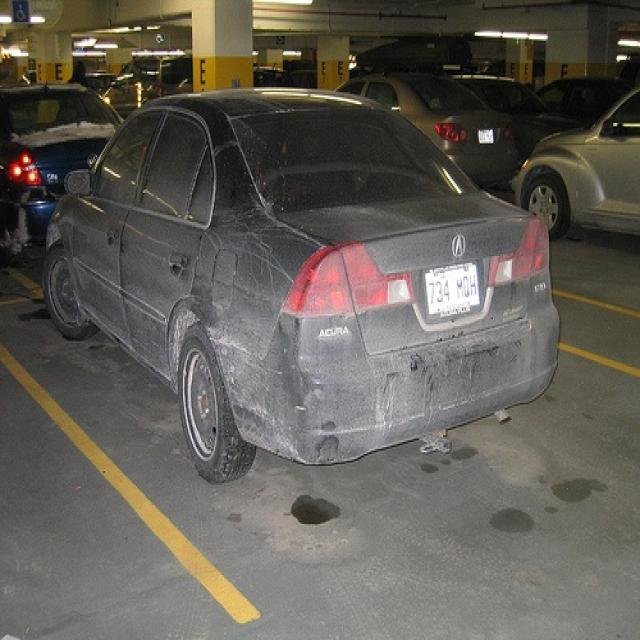car: (50, 82, 559, 483), (0, 73, 128, 256), (334, 65, 525, 171), (516, 85, 639, 244)
